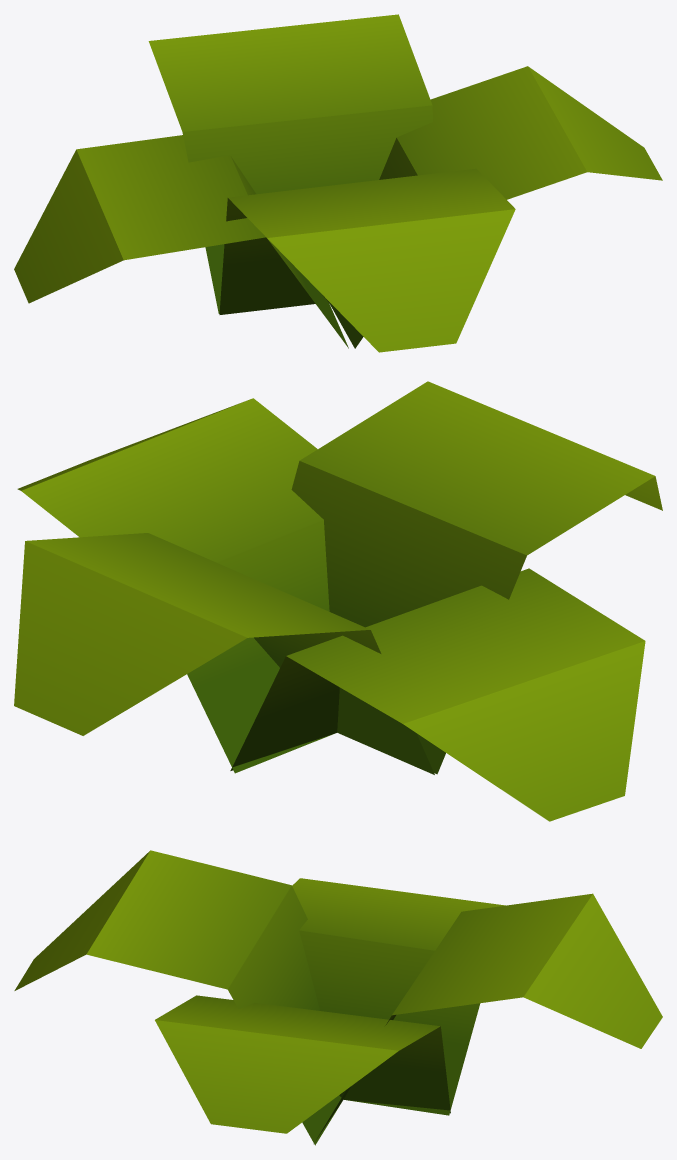
The model's file is plant1.fbx.
The picture shows the model from 3 angles, top to bottom: view 1: azimuth 30°, elevation 25°; view 2: azimuth 150°, elevation 25°; view 3: azimuth 270°, elevation 25°; orthographic projection. The views are drawn at different scales.
Visible parts, largest first — view 1: plant1; view 2: plant1; view 3: plant1.
Boxes of the visible parts, <box> form: plant1: <box>14,14,662,352</box>; plant1: <box>14,381,662,821</box>; plant1: <box>14,850,662,1145</box>.
Bounding box in the file's own units: 52.08 × 16.39 × 53.53.
